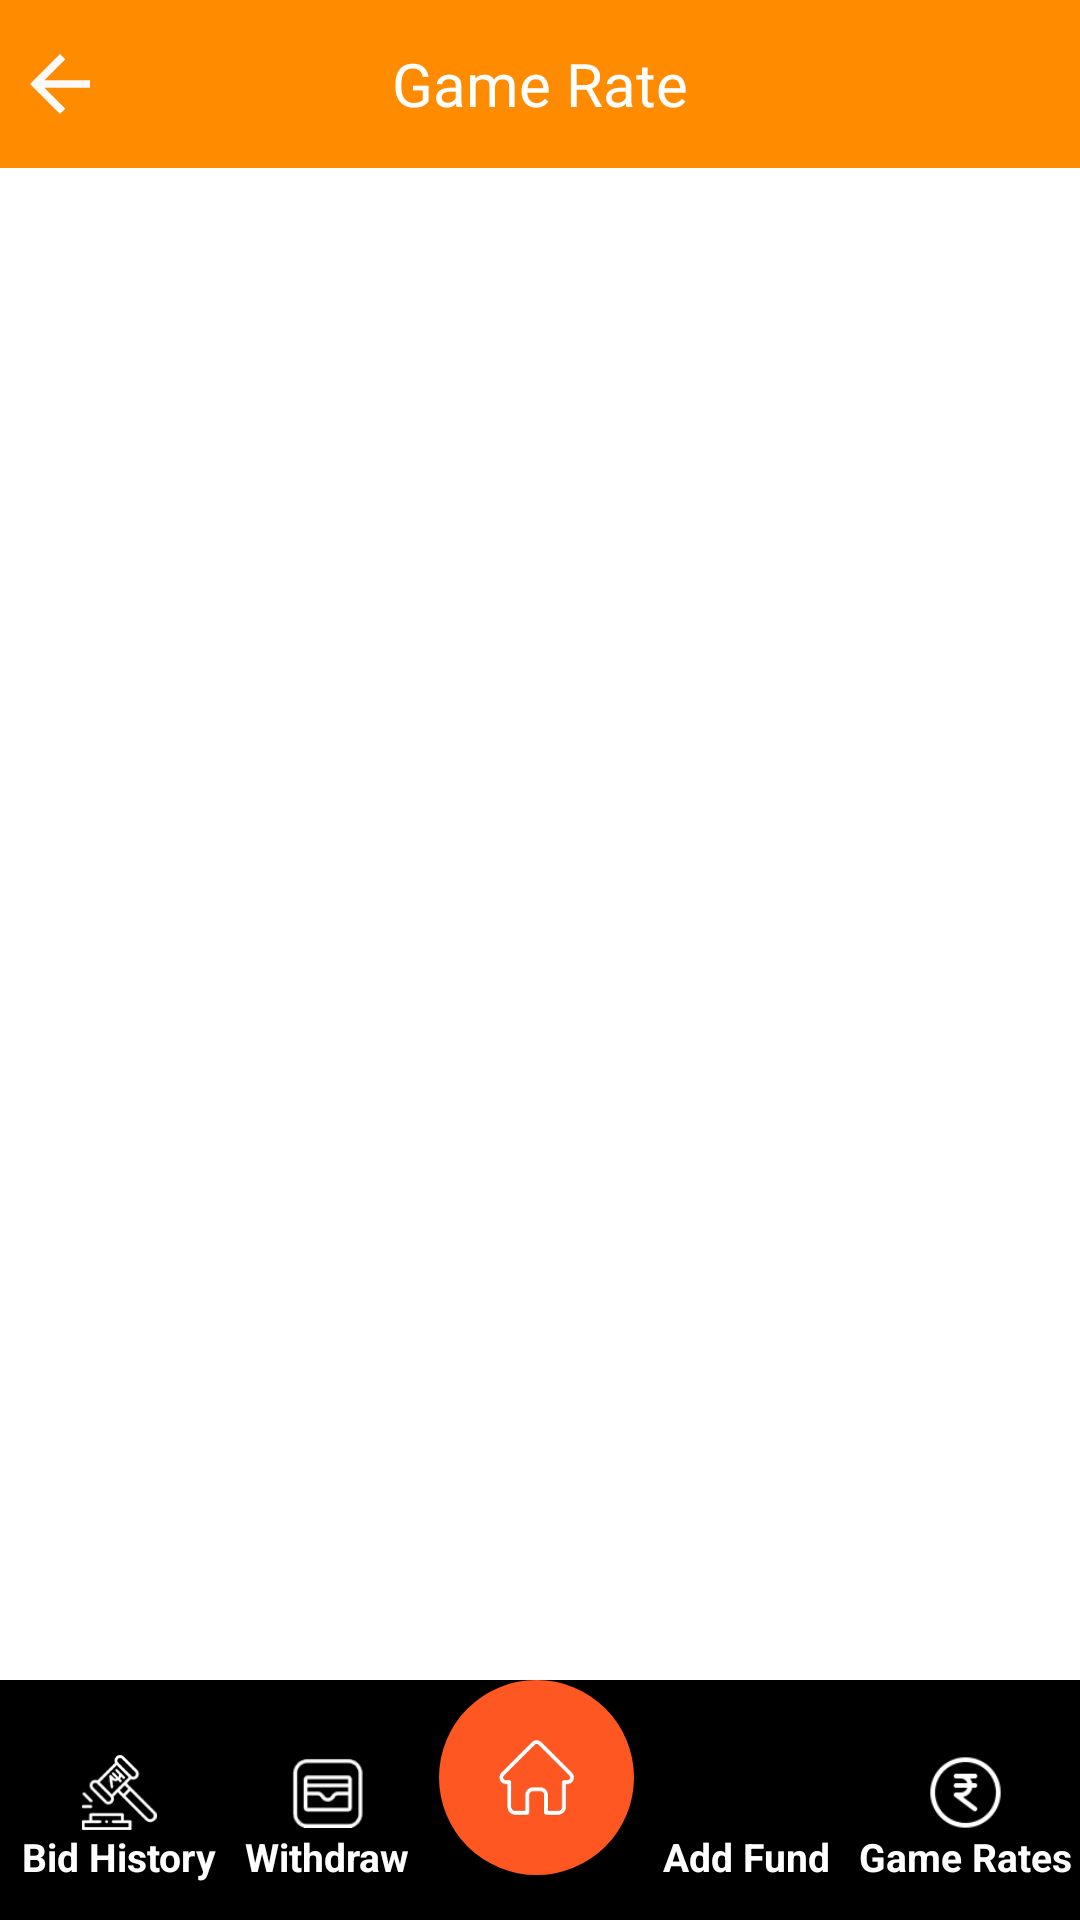

Where icons sit on this 1080×1920 app screen, as (x1, y1, x2, y2):
arrow back: (30, 54, 90, 114)
